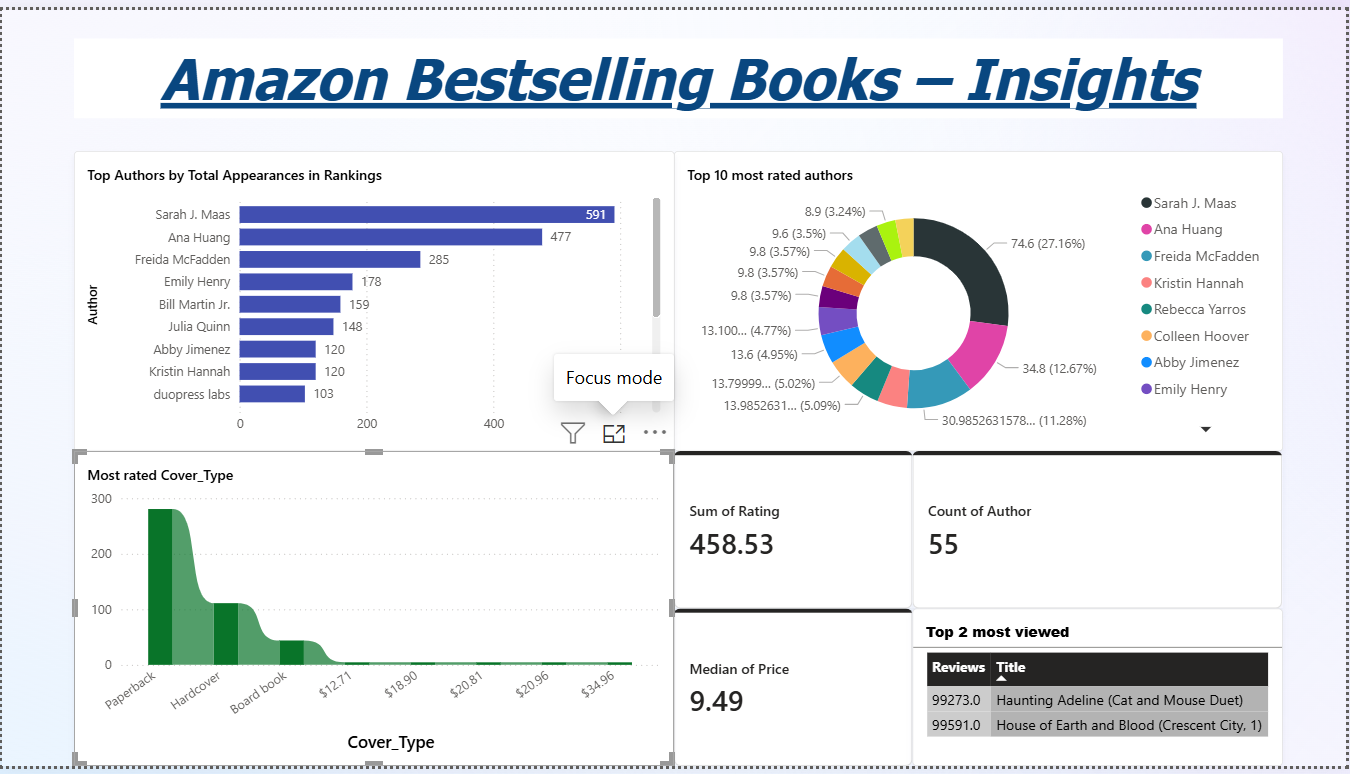

Layout of this report page (visuals, bound fields, positions):
{"tool":"powerbi","page":{"name":"Page 2","canvas":[1280,720],"ordinal":0},"visuals":[{"type":"donutChart","title":"Top 10 most rated authors","fields":{"Category":["clean_books.Author"],"Y":["clean_books.Rating"]},"box":[640,134,580,286],"z":0},{"type":"barChart","title":"Top Authors by Total Appearances in Rankings","fields":{"Category":["clean_books.Author"],"Y":["clean_books.Rank"]},"box":[68,134,572,286],"z":1000},{"type":"textbox","box":[68.6,27.1,1151.4,75.7],"z":1001},{"type":"cardVisual","fields":{"Data":["clean_books.Rating"]},"box":[640,420,227.1,150],"z":1004},{"type":"cardVisual","fields":{"Data":["clean_books.Price"]},"box":[640,570,227.1,150],"z":1005},{"type":"cardVisual","fields":{"Data":["clean_books.Author"]},"box":[867.1,420,352.9,150],"z":1006},{"type":"tableEx","title":"Top 2 most viewed","fields":{"Values":["clean_books.Reviews","clean_books.Title"]},"box":[867.1,570,352.9,150],"z":1007},{"type":"ribbonChart","title":"Most rated Cover_Type","fields":{"Category":["clean_books.Cover_Type"],"Y":["clean_books.Rating"]},"box":[68.6,420,571.4,300],"z":1008}]}

Visuals, with their boxes in screenshot pixels (x1, y1, x2, y2), scaled from the page's 1280x720 canvas onto the 1350x774 screenshot:
"Top 10 most rated authors" donutChart: crop(675, 144, 1287, 452)
"Top Authors by Total Appearances in Rankings" barChart: crop(72, 144, 675, 452)
textbox: crop(72, 29, 1287, 111)
cardVisual - clean_books.Rating: crop(675, 452, 915, 613)
cardVisual - clean_books.Price: crop(675, 613, 915, 773)
cardVisual - clean_books.Author: crop(915, 452, 1287, 613)
"Top 2 most viewed" tableEx: crop(915, 613, 1287, 773)
"Most rated Cover_Type" ribbonChart: crop(72, 452, 675, 773)
